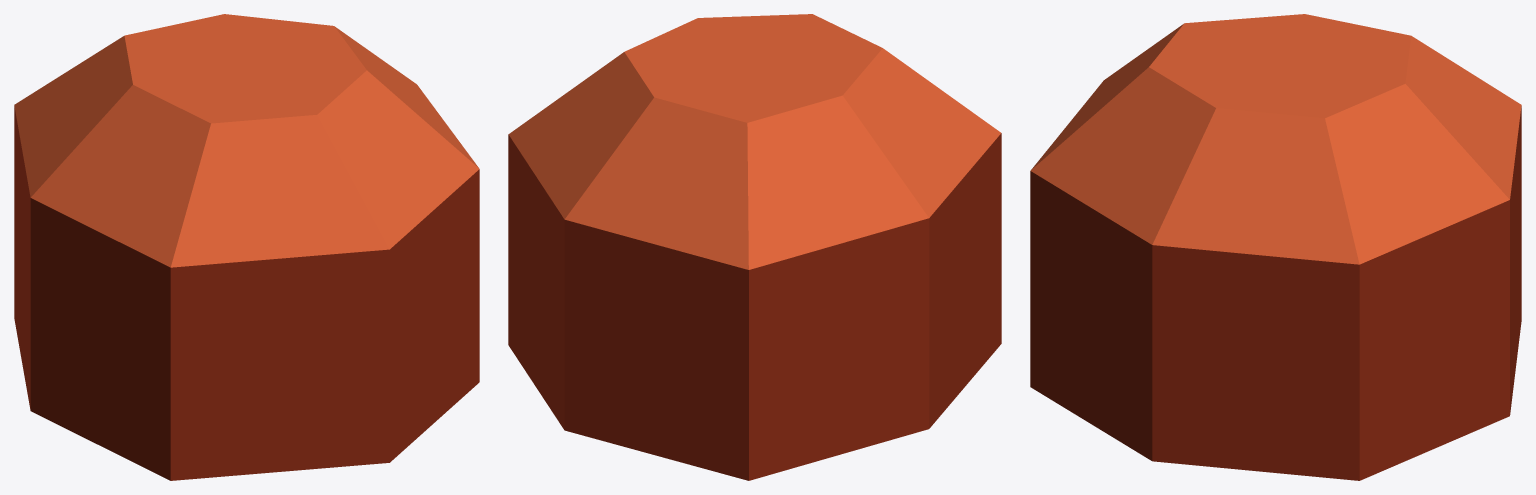
The model's file is rock_boulder.glb.
3 renders of one model, left to right at view 1: azimuth 30°, elevation 25°; view 2: azimuth 150°, elevation 25°; view 3: azimuth 270°, elevation 25°, orthographic. The views are drawn at different scales.
Visible parts, largest first — view 1: rock_boulder; view 2: rock_boulder; view 3: rock_boulder.
Part boxes in pixels (box(x1,y1,x2,y2)): rock_boulder: box(14, 14, 479, 480); rock_boulder: box(508, 14, 1001, 480); rock_boulder: box(1030, 14, 1521, 480).
Size of the model in its own units: 0.757 by 0.55 by 0.782.
Materials: 1 (1 with a texture image).
